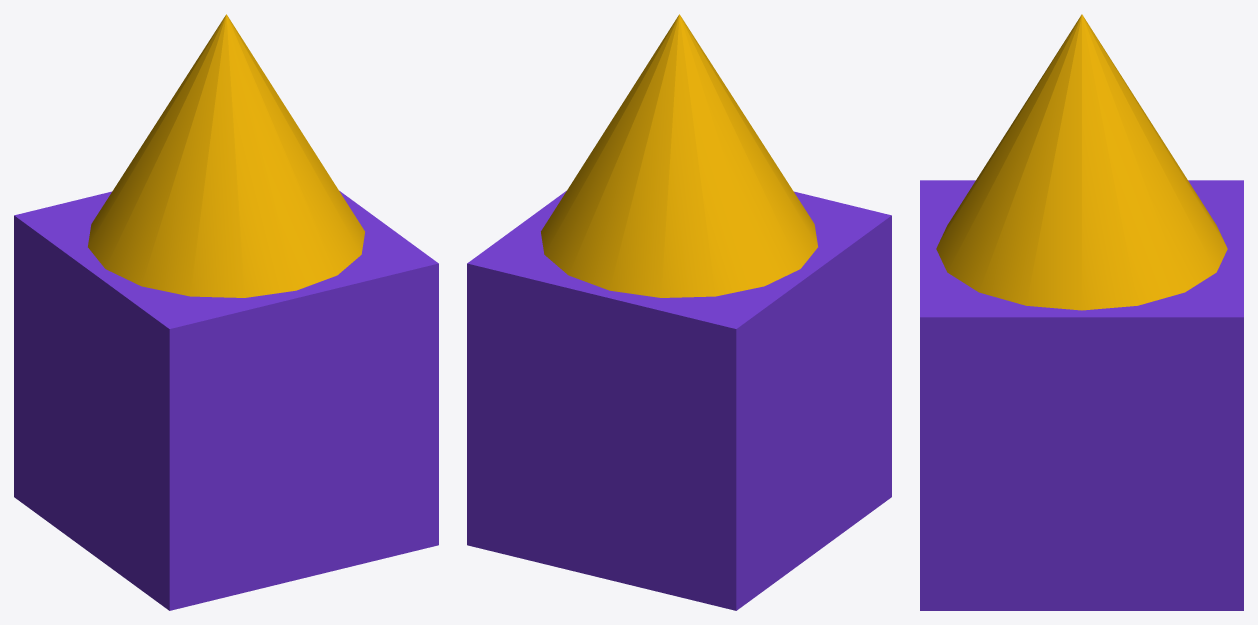
File: beacon.glb
The picture shows the model from 3 angles, left to right: view 1: azimuth 30°, elevation 25°; view 2: azimuth 150°, elevation 25°; view 3: azimuth 270°, elevation 25°; orthographic projection. The views are drawn at different scales.
Parts seen in each view (by area): view 1: Body, Top; view 2: Body, Top; view 3: Body, Top.
Boxes of the visible parts, box(x1,y1,x2,y2) form: Body: box(14, 191, 438, 610); Top: box(88, 14, 364, 297); Body: box(467, 191, 891, 610); Top: box(541, 14, 817, 297); Body: box(920, 180, 1243, 610); Top: box(936, 14, 1227, 310).
Bounding box in the file's own units: 1 × 1.8 × 1.
